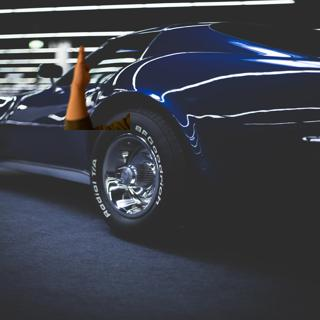RIGHT: (67, 40, 94, 95)
